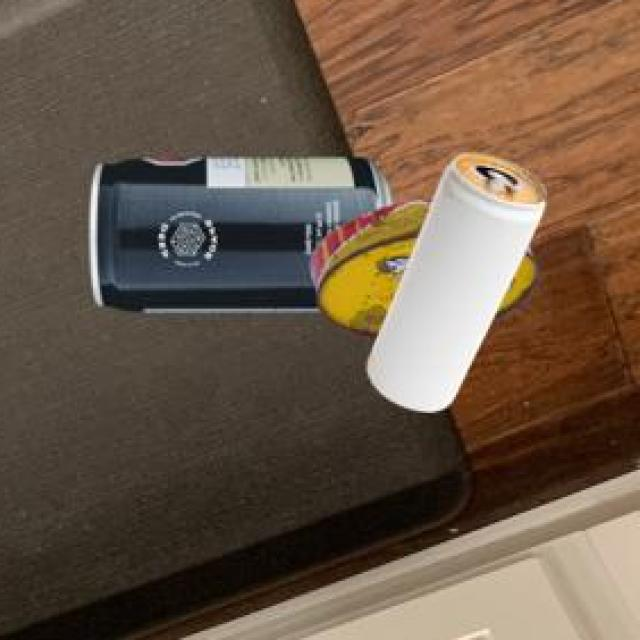logam: (87, 160, 387, 317), (364, 155, 544, 414), (308, 203, 534, 342)
